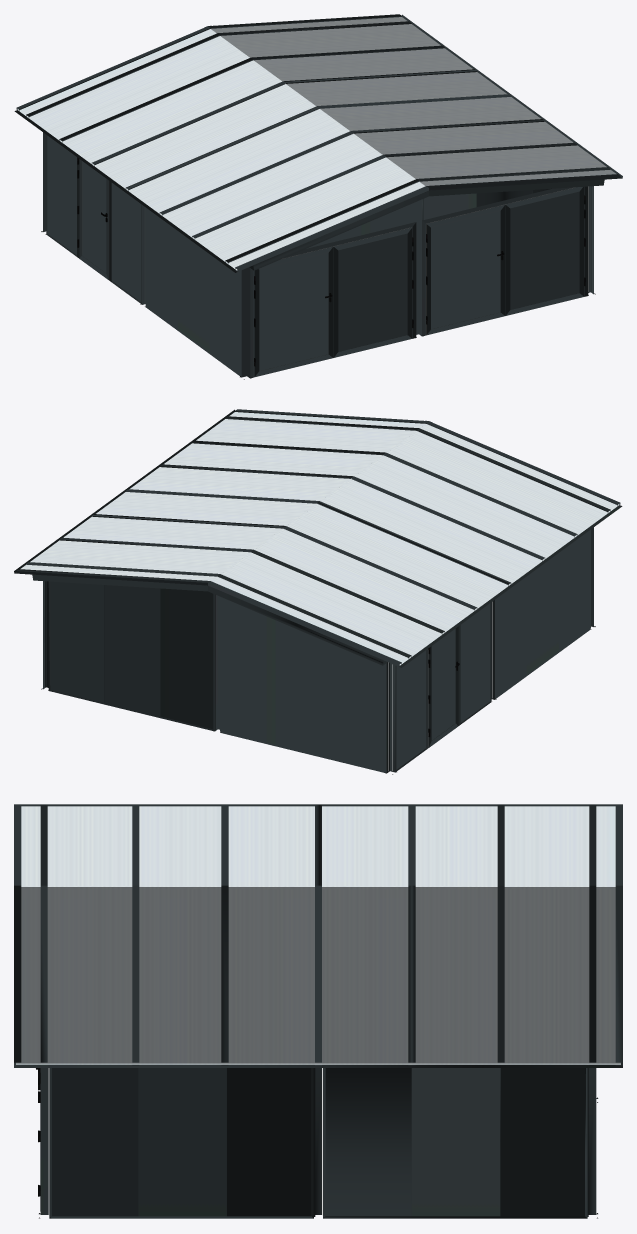
3 views of the same model, one above another, from view 1: azimuth 30°, elevation 25°; view 2: azimuth 150°, elevation 25°; view 3: azimuth 270°, elevation 25° (orthographic). The views are drawn at different scales.
Parts seen in each view (by area): view 1: priximbattable_net_abris_de_voiture_640016_double_garage_pol, folha_4, folha_2, folha_3, folha_5, folha, porta_dupla, porta_dupla_1, porta; view 2: priximbattable_net_abris_de_voiture_640016_double_garage_pol, folha, porta; view 3: priximbattable_net_abris_de_voiture_640016_double_garage_pol.
Boxes of the visible parts, x1,y1,x2,y2 form: priximbattable_net_abris_de_voiture_640016_double_garage_pol: (14,14,622,379); folha_4: (333,227,413,357); folha_2: (505,186,585,315); folha_3: (426,204,505,335); folha_5: (254,246,333,377); folha: (77,157,109,280); porta_dupla: (422,186,588,336); porta_dupla_1: (250,222,416,377); porta: (77,157,111,281); priximbattable_net_abris_de_voiture_640016_double_garage_pol: (14,409,622,774); folha: (428,626,458,747); porta: (426,625,460,749); priximbattable_net_abris_de_voiture_640016_double_garage_pol: (14,804,622,1218).
Size of the model in its own units: 699 by 270 by 690.
1 material, 1 textured.
